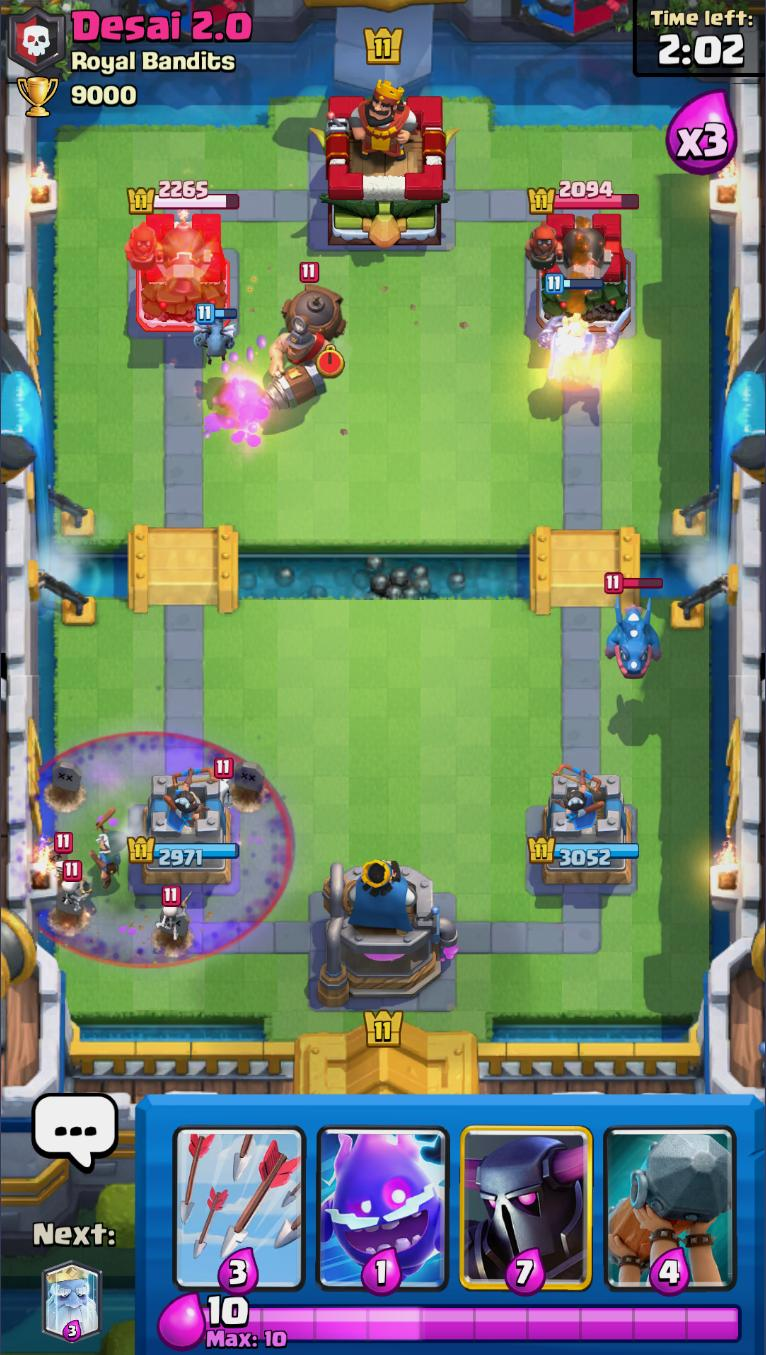ArrowDeck: (168, 1094, 311, 1295)
Cannoneer: (526, 212, 607, 298), (124, 214, 207, 297)
ElectroDragon: (602, 570, 668, 680)
ElectroSpiritDeck: (310, 1094, 456, 1295)
Elixir: (200, 1296, 745, 1350)
EnemyTower: (524, 209, 633, 333), (125, 207, 231, 332)
Graveyard: (18, 729, 291, 968)
KingTower: (310, 81, 461, 249)
MightyMiner: (257, 261, 348, 414)
MyBandit: (88, 806, 129, 893)
MyBattleRam: (600, 1095, 740, 1295)
MyKingTower: (314, 855, 460, 1007)
MyMinion: (190, 303, 239, 366)
MyPrincessTower: (527, 770, 641, 886), (128, 773, 242, 888)
MyPrincessTowerHP: (127, 836, 240, 867), (527, 837, 640, 866)
MyRoyaleGhost: (539, 272, 632, 389)
PekkaDeck: (456, 1095, 601, 1295)
RoyaleGhostNext: (40, 1264, 105, 1341)
Skeleton: (57, 861, 96, 911), (157, 886, 192, 941), (214, 758, 234, 807), (54, 833, 73, 880)
TowerPrincessHP: (127, 178, 240, 212), (529, 179, 641, 211)
